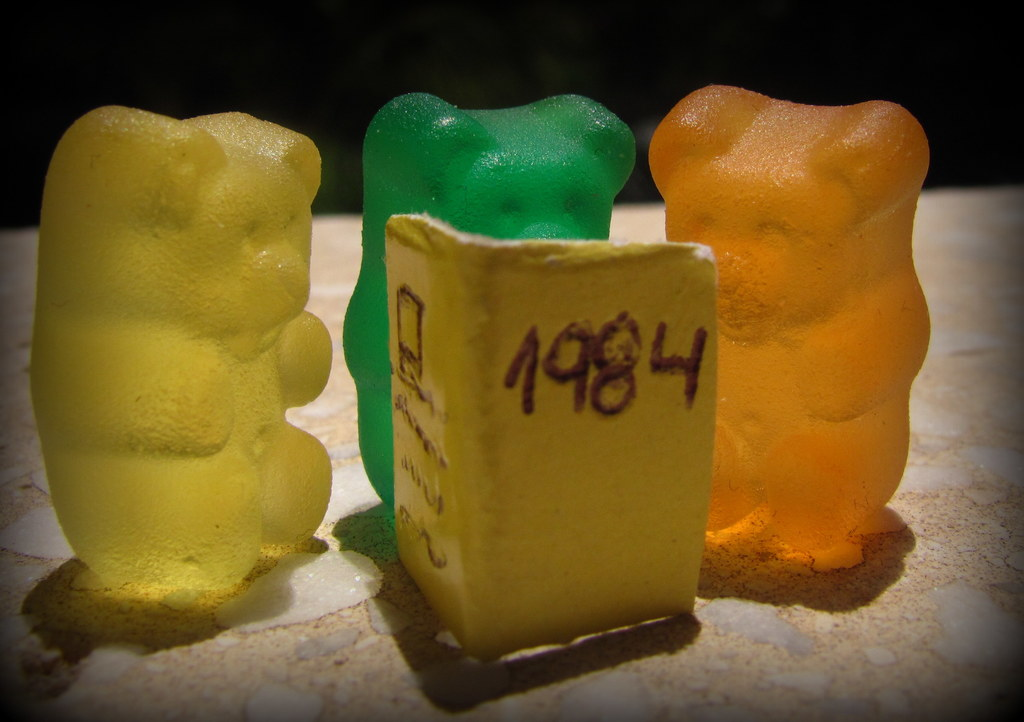face: (664, 138, 848, 327)
